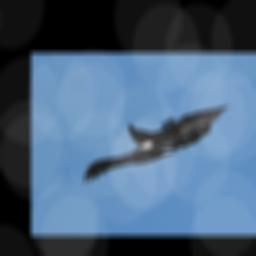Crow: (82, 106, 231, 185)
